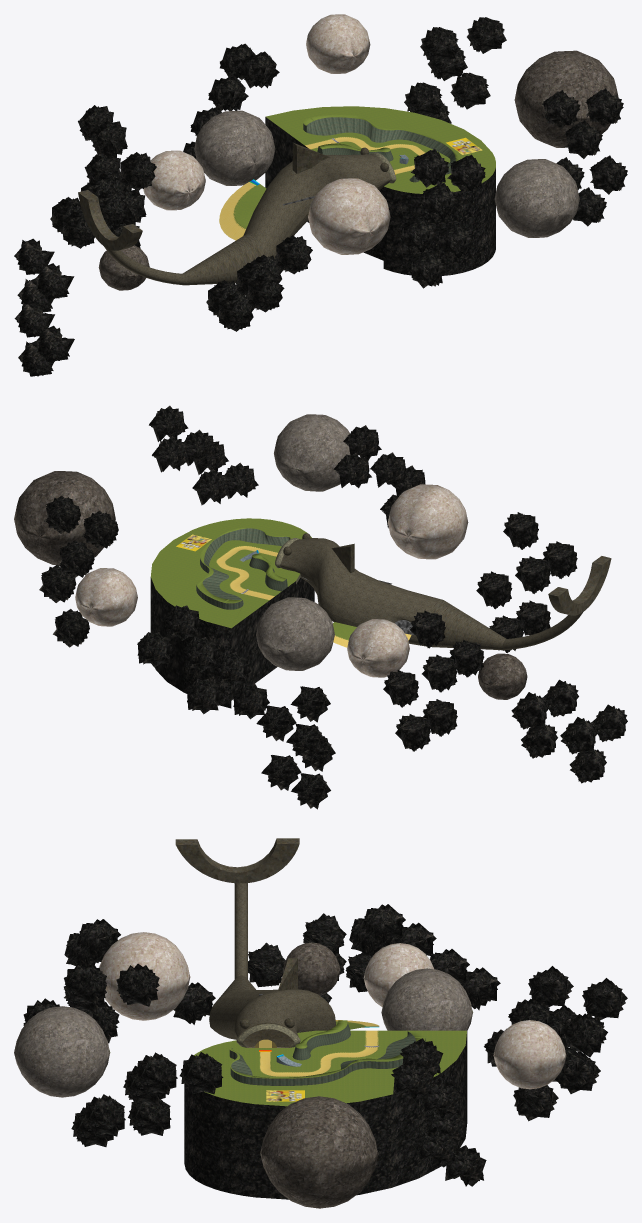
3 views of the same model, one above another, from view 1: azimuth 30°, elevation 25°; view 2: azimuth 150°, elevation 25°; view 3: azimuth 270°, elevation 25° (orthographic). The views are drawn at different scales.
Parts seen in each view (by area): view 1: Untitled-SKP--Material24.001, Untitled-SKP--Material23.001, Untitled-SKP--Material21.001, Untitled-SKP--Material.001, Untitled-SKP--Material3.001, Untitled-SKP--Material22.001, Untitled-SKP--Material12.001, Untitled-SKP--Material20.001, Untitled-SKP--Material11.001, Untitled-SKP--Material18.001, Untitled-SKP--Material2.001; view 2: Untitled-SKP--Material24.001, Untitled-SKP--Material23.001, Untitled-SKP--Material.001, Untitled-SKP--Material21.001, Untitled-SKP--Material3.001, Untitled-SKP--Material22.001, Untitled-SKP--Material12.001, Untitled-SKP--Material20.001, Untitled-SKP--Material2.001; view 3: Untitled-SKP--Material24.001, Untitled-SKP--Material22.001, Untitled-SKP--Material21.001, Untitled-SKP--Material23.001, Untitled-SKP--Material3.001, Untitled-SKP--Material.001, Untitled-SKP--Material12.001, Untitled-SKP--Material20.001, Untitled-SKP--Material2.001, Untitled-SKP--Material19.001, Untitled-SKP--Material18.001, Untitled-SKP--Material13.001.
Boxes of the visible parts, x1,y1,x2,y2 form: Untitled-SKP--Material24.001: (14,17,627,376); Untitled-SKP--Material23.001: (143,14,390,254); Untitled-SKP--Material21.001: (194,110,579,237); Untitled-SKP--Material.001: (104,154,390,285); Untitled-SKP--Material3.001: (235,106,495,227); Untitled-SKP--Material22.001: (98,50,618,290); Untitled-SKP--Material12.001: (303,117,455,182); Untitled-SKP--Material20.001: (78,190,142,250); Untitled-SKP--Material11.001: (219,182,256,240); Untitled-SKP--Material18.001: (292,142,388,173); Untitled-SKP--Material2.001: (304,136,425,174); Untitled-SKP--Material24.001: (39,405,627,809); Untitled-SKP--Material23.001: (75,484,468,677); Untitled-SKP--Material.001: (280,538,582,650); Untitled-SKP--Material21.001: (256,414,350,670); Untitled-SKP--Material3.001: (150,518,356,639); Untitled-SKP--Material22.001: (14,471,527,699); Untitled-SKP--Material12.001: (196,528,290,609); Untitled-SKP--Material20.001: (548,556,611,615); Untitled-SKP--Material2.001: (215,545,278,600); Untitled-SKP--Material24.001: (23,904,627,1199); Untitled-SKP--Material22.001: (260,942,378,1208); Untitled-SKP--Material21.001: (14,968,472,1097); Untitled-SKP--Material23.001: (99,932,566,1089); Untitled-SKP--Material3.001: (194,1020,466,1106); Untitled-SKP--Material.001: (209,883,335,1039); Untitled-SKP--Material12.001: (229,1023,425,1085); Untitled-SKP--Material20.001: (175,838,299,883); Untitled-SKP--Material2.001: (259,1030,379,1076); Untitled-SKP--Material19.001: (238,1022,293,1047); Untitled-SKP--Material18.001: (239,958,297,1029); Untitled-SKP--Material13.001: (236,1023,369,1047).
Size of the model in its own units: 15.06 by 5.12 by 11.84.
Materials: 25 (25 with a texture image).
